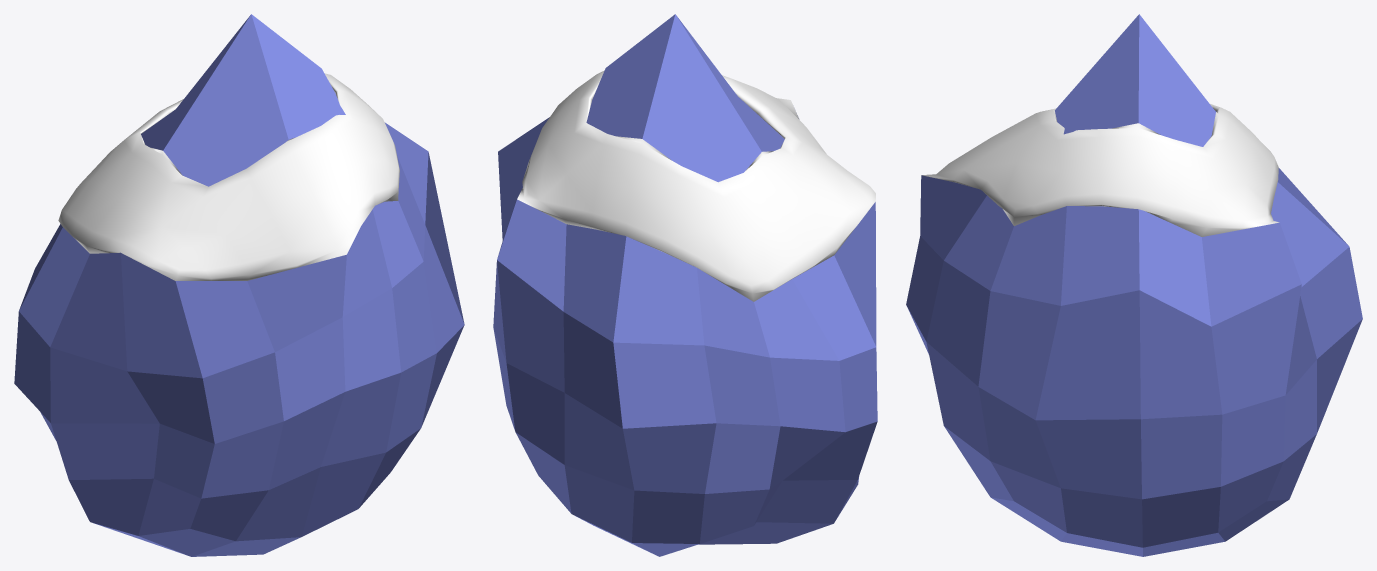
File: ice block n colour.fbx
The picture shows the model from 3 angles, left to right: view 1: azimuth 30°, elevation 25°; view 2: azimuth 150°, elevation 25°; view 3: azimuth 270°, elevation 25°; orthographic projection. The views are drawn at different scales.
Parts seen in each view (by area): view 1: ice1; view 2: ice1; view 3: ice1.
Boxes of the visible parts, x1,y1,x2,y2 form: ice1: (14,14,464,556); ice1: (493,14,877,556); ice1: (906,14,1362,556).
Bounding box in the file's own units: 5.32 × 6.89 × 5.35.
